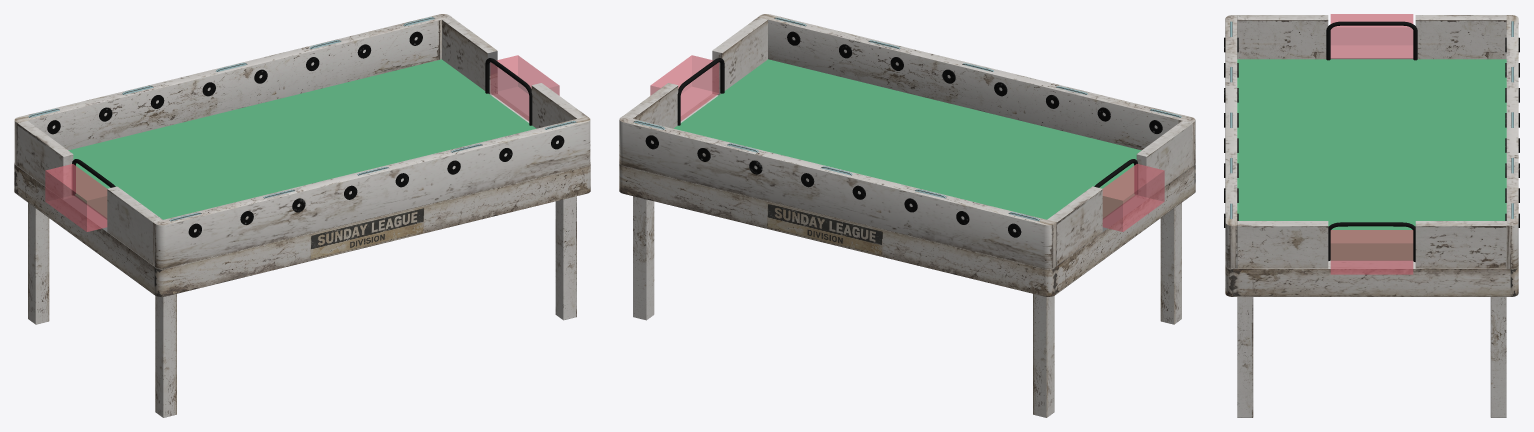
The model's file is fuzeball_table_classic_sundayLeague.glb.
3 renders of one model, left to right at view 1: azimuth 30°, elevation 25°; view 2: azimuth 150°, elevation 25°; view 3: azimuth 270°, elevation 25°, orthographic.
Visible parts, largest first — view 1: field.001, wall_side_near.001, wall_side_far.001, table_base.001, goal_net_left.001, wall_end_l_far.001, table_leg.005, table_leg.007, wall_end_r_far.001, table_leg.004, wall_end_l_near.001, goal_net_right.001 (+3 smaller); view 2: field.001, wall_side_far.001, wall_side_near.001, table_base.001, goal_net_left.001, wall_end_l_near.001, table_leg.004, table_leg.006, wall_end_r_near.001, table_leg.005, wall_end_l_far.001, goal_net_right.001 (+3 smaller); view 3: field.001, table_base.001, wall_end_r_far.001, wall_end_r_near.001, wall_end_l_far.001, wall_end_l_near.001, goal_net_right.001, wall_side_far.001, goal_net_left.001, wall_side_near.001, table_leg.006, table_leg.007 (+2 smaller).
Boxes of the visible parts, box(x1,y1,x2,y2) form: field.001: box(68, 59, 536, 219); wall_side_near.001: box(47, 33, 590, 268); wall_side_far.001: box(14, 14, 564, 237); table_base.001: box(14, 94, 590, 296); goal_net_left.001: box(45, 164, 107, 231); wall_end_l_far.001: box(17, 121, 73, 199); table_leg.005: box(155, 294, 176, 417); table_leg.007: box(555, 196, 576, 320); wall_end_r_far.001: box(442, 17, 497, 95); table_leg.004: box(28, 203, 49, 324); wall_end_l_near.001: box(107, 186, 162, 264); goal_net_right.001: box(490, 55, 559, 121); field.001: box(674, 59, 1141, 219); wall_side_far.001: box(619, 31, 1162, 268); wall_side_near.001: box(645, 14, 1195, 237); table_base.001: box(619, 94, 1195, 296); goal_net_left.001: box(1102, 164, 1164, 231); wall_end_l_near.001: box(1136, 121, 1192, 199); table_leg.004: box(1033, 294, 1054, 417); table_leg.006: box(633, 196, 654, 320); wall_end_r_near.001: box(712, 17, 767, 95); table_leg.005: box(1160, 203, 1181, 324); wall_end_l_far.001: box(1047, 186, 1102, 264); goal_net_right.001: box(650, 55, 719, 121); field.001: box(1237, 59, 1506, 260); table_base.001: box(1225, 58, 1518, 296); wall_end_r_far.001: box(1415, 221, 1506, 268); wall_end_r_near.001: box(1237, 221, 1328, 268); wall_end_l_far.001: box(1415, 15, 1506, 59); wall_end_l_near.001: box(1237, 15, 1328, 59); goal_net_right.001: box(1330, 230, 1413, 274); wall_side_far.001: box(1224, 15, 1519, 268); goal_net_left.001: box(1330, 14, 1413, 58); wall_side_near.001: box(1224, 15, 1519, 268); table_leg.006: box(1490, 297, 1506, 417); table_leg.007: box(1237, 297, 1253, 417).
Size of the model in its own units: 137 by 55.48 by 74.67.
8 materials, 3 textured.
